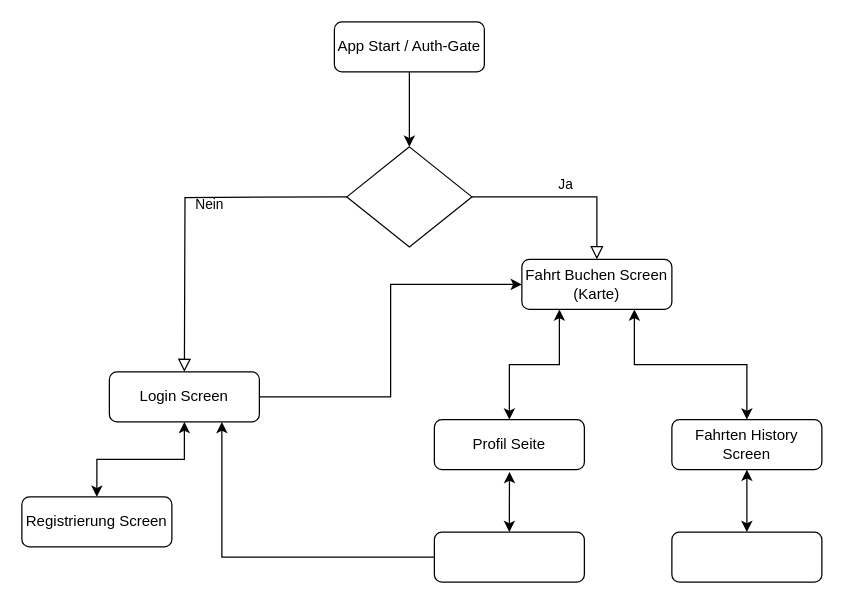
Image size: 844x605. Some labels were removed from this diagram. Here are the shapes that lost their labels. From the top down, the centre of each, then its label:
At [409,196]: "Angemeldet".
At [508,556]: "Einstellungen Seite".
At [746,556]: "Fahrten Detail Seite".
